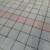zebra: (1, 10, 50, 23)
